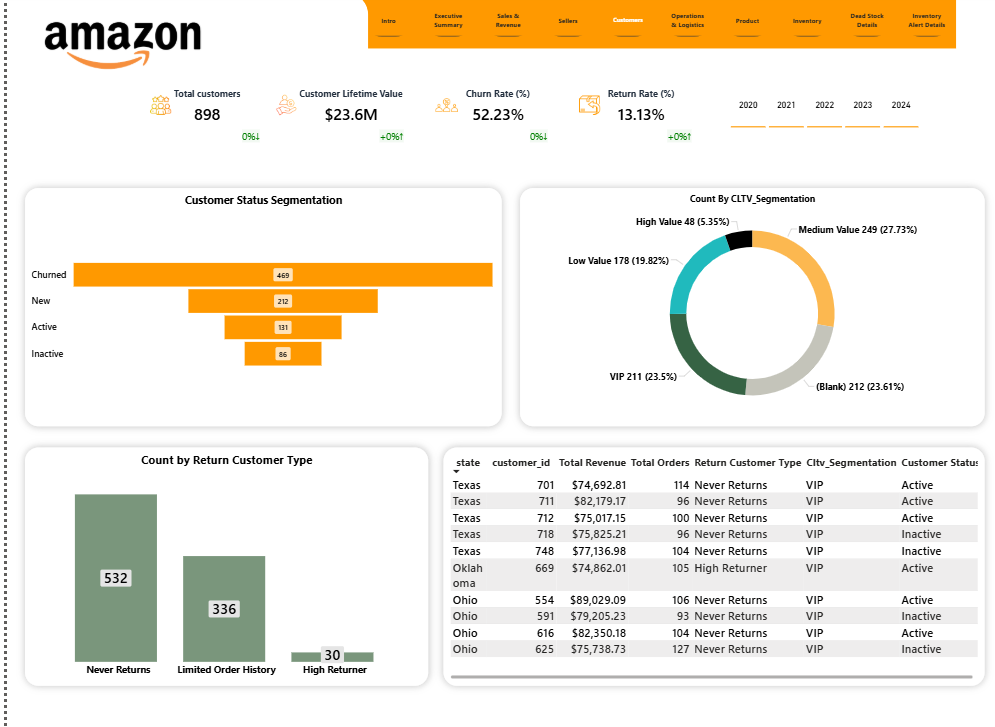

What the dashboard file says about the page in this screenshot:
{"tool":"powerbi","page":{"name":"Customers","canvas":[2200,1650],"ordinal":4},"visuals":[{"type":"funnel","title":"Customer Status Segmentation","fields":{"Category":["customers.Customer Status"],"Y":["CountNonNull(customers.customer_id)"]},"box":[40,433.3,1060,530],"z":0},{"type":"columnChart","title":"Count by Return Customer Type","fields":{"Category":["customers.Return Customer Type"],"Y":["CountNonNull(customers.customer_id)"]},"box":[40,1010,896.7,530],"z":1000},{"type":"tableEx","fields":{"Values":["customers.state","customers.customer_id","All measures.Total Revenue","All measures.Total Orders","customers.Return Customer Type","Merge1.Cltv_Segmentation ","customers.Customer Status"]},"box":[970,1010,1203.3,530],"z":3000},{"type":"donutChart","title":"Count By CLTV_Segmentation ","fields":{"Category":["Merge1.Cltv_Segmentation "],"Y":["CountNonNull(customers.customer_id)"]},"box":[1140,433.3,1033.3,530],"z":4000},{"type":"cardVisual","fields":{"Data":["All measures.Total customers","All measures.Customer Lifetime Value","All measures.Churn Rate (%)","All measures.Return Rate (%)"]},"box":[257.5,195,1285,155],"z":5000},{"type":"group","id":"g1","title":"Group 3","box":[0,0,2172.5,212.5],"z":6000},{"type":"advancedSlicerVisual","fields":{"Values":["Calendar.Year"]},"box":[1605,195,430,110],"z":7000},{"type":"shape","box":[712.5,0,1460,122.5],"z":8000,"group":"g2"},{"type":"shape","box":[0,0,803.3,136.7],"z":9000,"group":"g2"},{"type":"pageNavigator","box":[787.5,12.5,1385,95],"z":10000,"group":"g2"},{"type":"group","id":"g2","title":"Group 2","box":[0,0,2172.5,136.7],"z":11001,"group":"g1"},{"type":"image","box":[0,0,515,212.5],"z":11501,"group":"g1"}]}

Visuals, with their boxes in screenshot pixels (x1, y1, x2, y2), scaled from the page's 2200x1650 canvas onto the 995x727 screenshot:
"Customer Status Segmentation" funnel: (18,191,498,424)
"Count by Return Customer Type" columnChart: (18,445,424,679)
tableEx - customers.state x customers.customer_id: (439,445,983,679)
"Count By CLTV_Segmentation " donutChart: (516,191,983,424)
cardVisual - All measures.Total customers x All measures.Customer Lifetime Value: (116,86,698,154)
"Group 3" group: (0,0,983,94)
advancedSlicerVisual - Calendar.Year: (726,86,920,134)
shape: (322,0,983,54)
shape: (0,0,363,60)
pageNavigator: (356,6,983,47)
"Group 2" group: (0,0,983,60)
image: (0,0,233,94)
